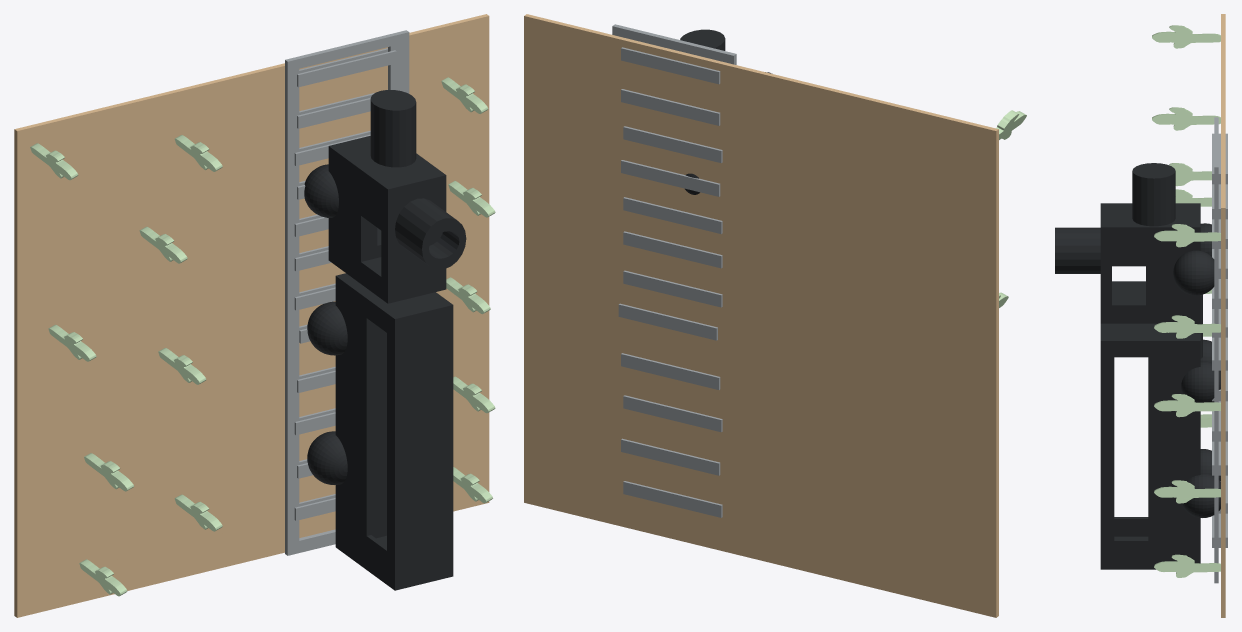
The model's file is tinker.obj.
3 renders of one model, left to right at view 1: azimuth 30°, elevation 25°; view 2: azimuth 150°, elevation 25°; view 3: azimuth 270°, elevation 25°, orthographic. The views are drawn at different scales.
Parts seen in each view (by area): view 1: group_0_14860437, group_0_2829873, group_0_10988977, group_0_13165757; view 2: group_0_14860437, group_0_10988977, group_0_2829873; view 3: group_0_2829873, group_0_13165757, group_0_10988977, group_0_14860437.
Part boxes in pixels (x1,y1,x2,y2): group_0_14860437: (14, 14, 489, 617); group_0_2829873: (304, 90, 466, 590); group_0_10988977: (285, 30, 409, 555); group_0_13165757: (30, 77, 495, 596); group_0_14860437: (524, 14, 998, 617); group_0_10988977: (612, 24, 736, 517); group_0_2829873: (680, 29, 772, 194); group_0_2829873: (1055, 163, 1220, 569); group_0_13165757: (1152, 25, 1220, 577); group_0_10988977: (1212, 117, 1227, 583); group_0_14860437: (1221, 14, 1225, 617).
Bounding box in the file's own units: 202 × 202 × 76.
